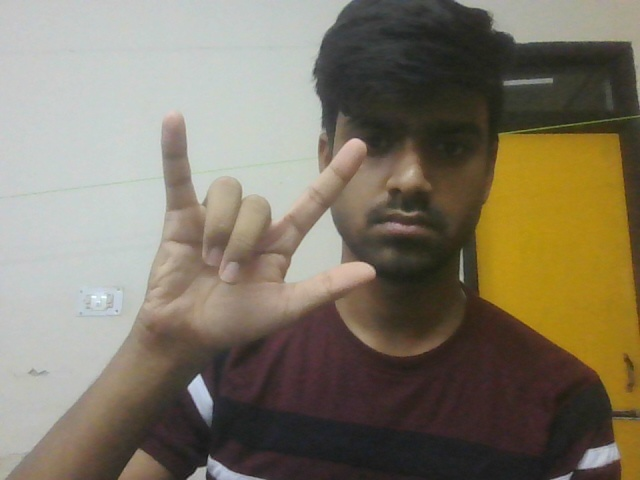iloveyou: (129, 106, 389, 372)
